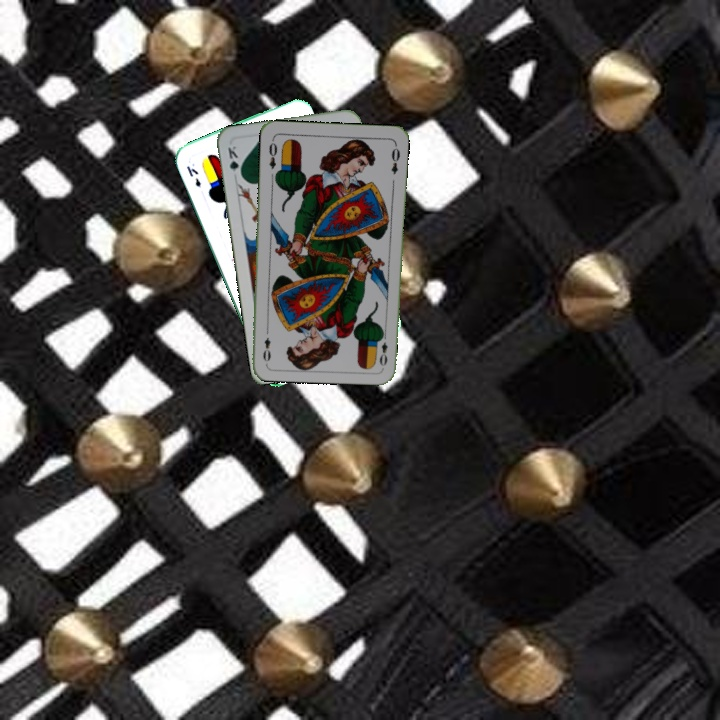EK: (183, 162, 204, 190)
EO: (376, 329, 390, 369), (265, 135, 280, 171)
GK: (224, 142, 244, 181)
